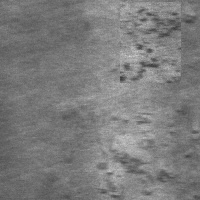rolled-in_scale: (82, 113, 200, 200), (120, 2, 181, 83)
